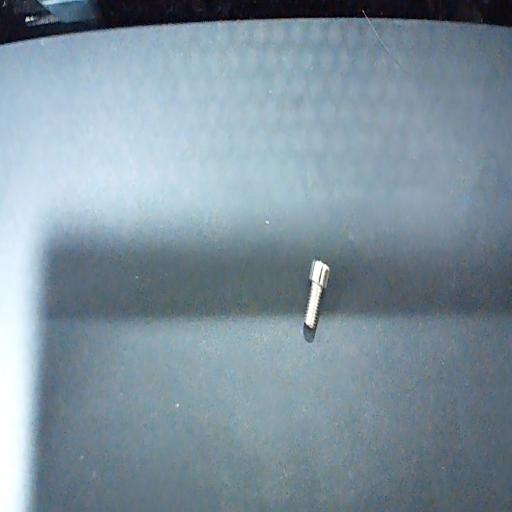screw: (304, 259, 330, 331)
